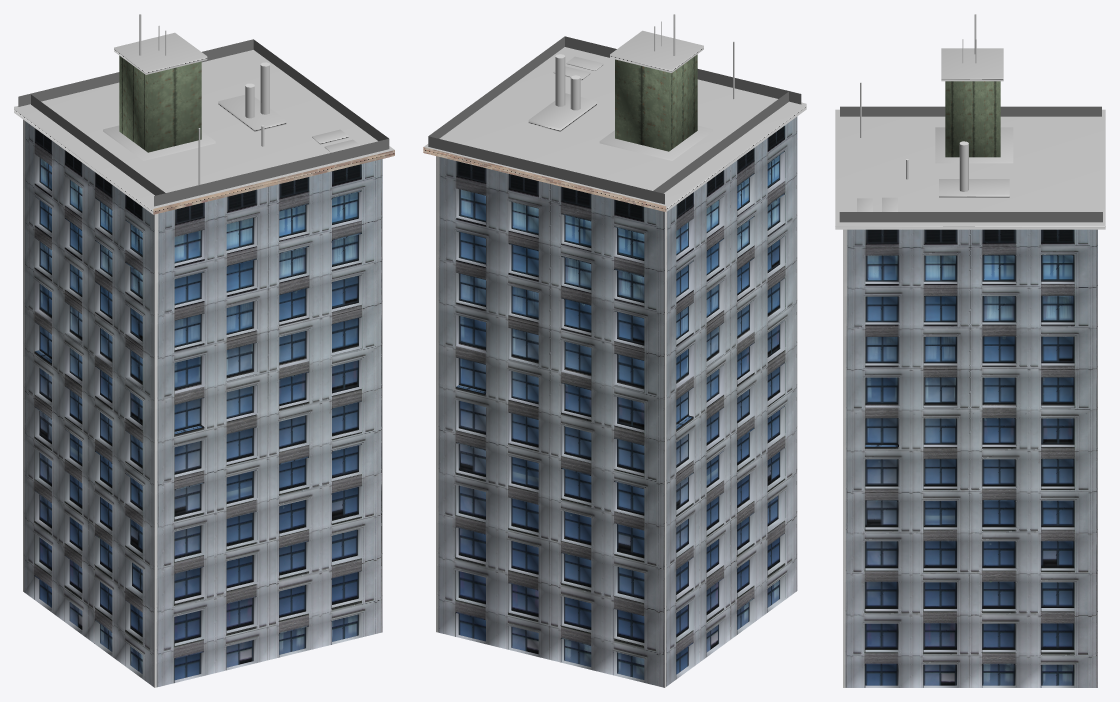
Rendered from citybuilding.fbx.
3 renders of one model, left to right at view 1: azimuth 30°, elevation 25°; view 2: azimuth 150°, elevation 25°; view 3: azimuth 270°, elevation 25°, orthographic. The views are drawn at different scales.
Parts seen in each view (by area): view 1: Plane.052, Plane.053, Cube.048, Cube.050, Plane.054, Cube.049, Plane.055, Plane.056, Plane.057, Cube.052, Cube.051; view 2: Plane.051, Plane.053, Cube.048, Cube.050, Plane.055, Cube.049, Plane.054, Plane.056, Plane.057, Cube.052, Cube.051; view 3: Plane.050, Cube.048, Cube.050, Plane.056, Plane.057, Cube.049, Cube.052, Cube.051, Cylinder.061.
Part boxes in pixels (x1,y1,x2,y2): Plane.052: (154,159,382,687); Plane.053: (23,119,154,687); Cube.048: (14,50,394,214); Cube.050: (119,55,201,152); Plane.054: (154,139,389,206); Cube.049: (114,32,207,74); Plane.055: (18,39,253,106); Plane.056: (253,39,388,141); Plane.057: (31,94,165,195); Cube.052: (218,95,286,131); Cube.051: (103,125,215,160); Plane.051: (436,156,664,687); Plane.053: (665,116,797,687); Cube.048: (423,47,806,211); Cube.050: (615,54,697,151); Plane.055: (428,136,664,204); Cube.049: (610,30,703,72); Plane.054: (565,36,801,104); Plane.056: (428,36,564,138); Plane.057: (653,91,788,193); Cube.052: (528,93,596,131); Cube.051: (599,125,712,160); Plane.050: (843,229,1097,687); Cube.048: (835,109,1105,229); Cube.050: (945,81,1000,157); Plane.056: (839,212,1102,222); Plane.057: (840,106,1101,116); Cube.049: (941,48,1003,81); Cube.052: (939,179,1009,197); Cube.051: (935,127,1013,163); Cylinder.061: (959,141,968,191).
Size of the model in its own units: 2.12 by 5.12 by 2.12.
